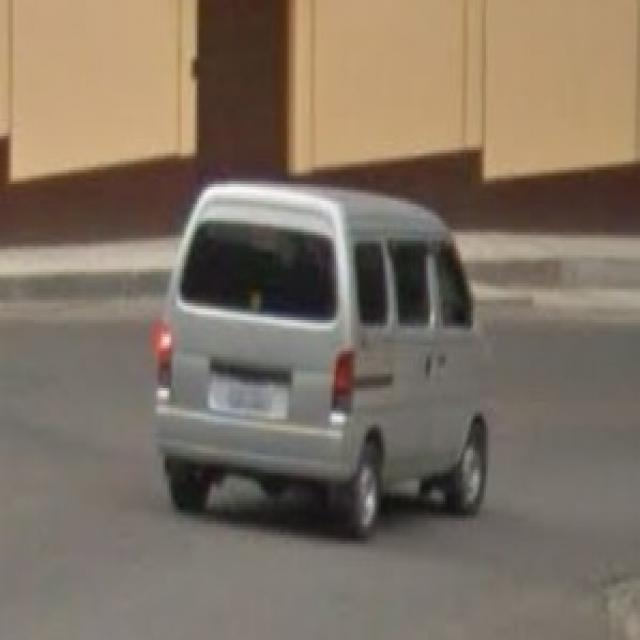cars: (153, 176, 494, 540)
